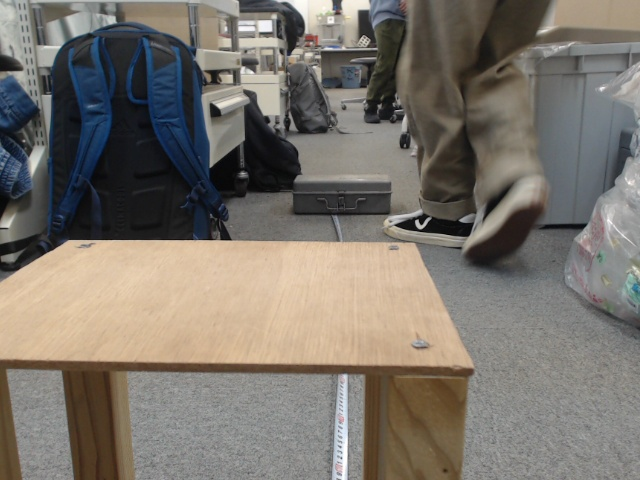desk: (247, 163, 472, 415)
